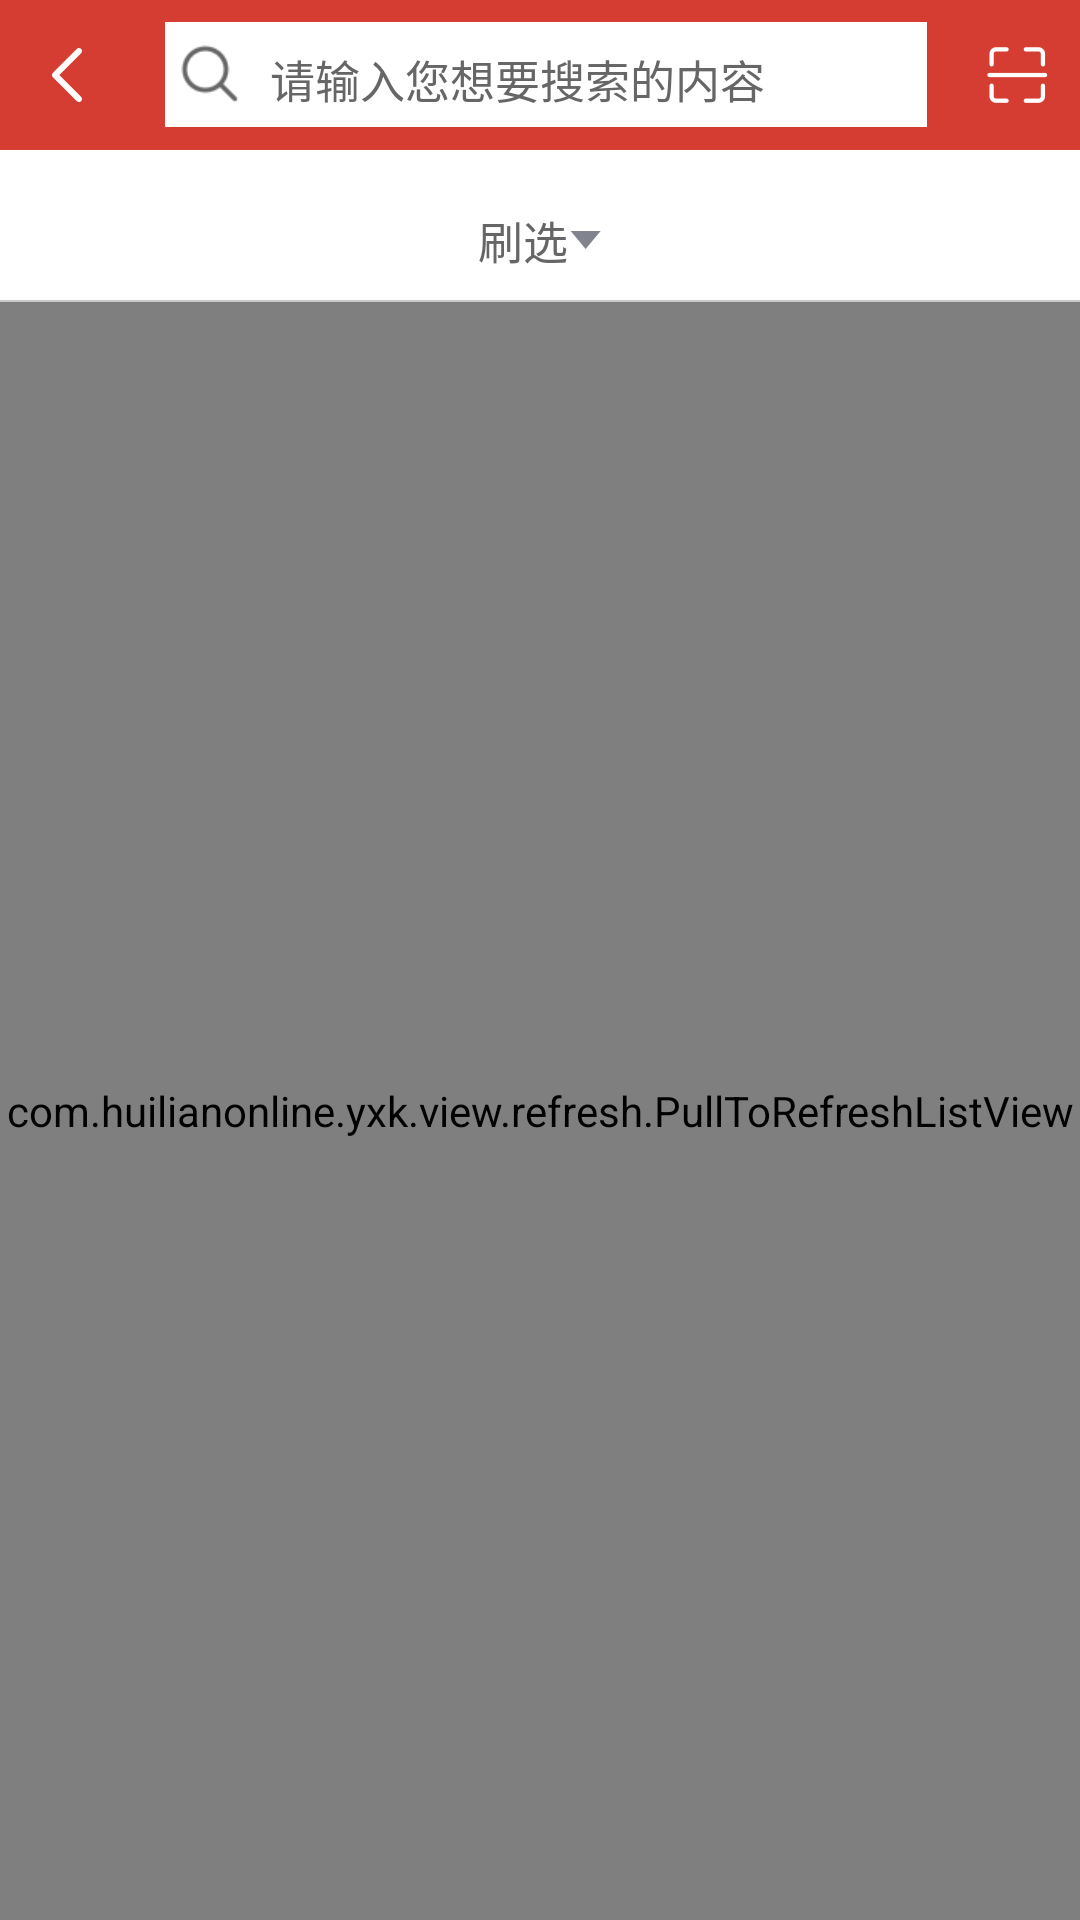

Icons on this 1080x1920 Android screen, each with the point to tap as [x,y]:
class back: [67,75]
home saoyisao: [1017,75]
search: [209,73]
